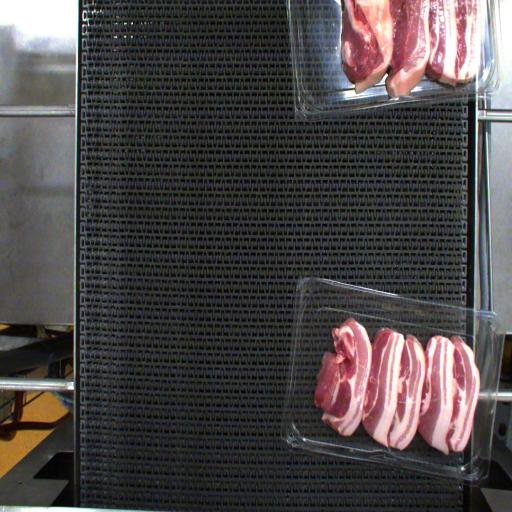wrinkle: (397, 394, 448, 407)
